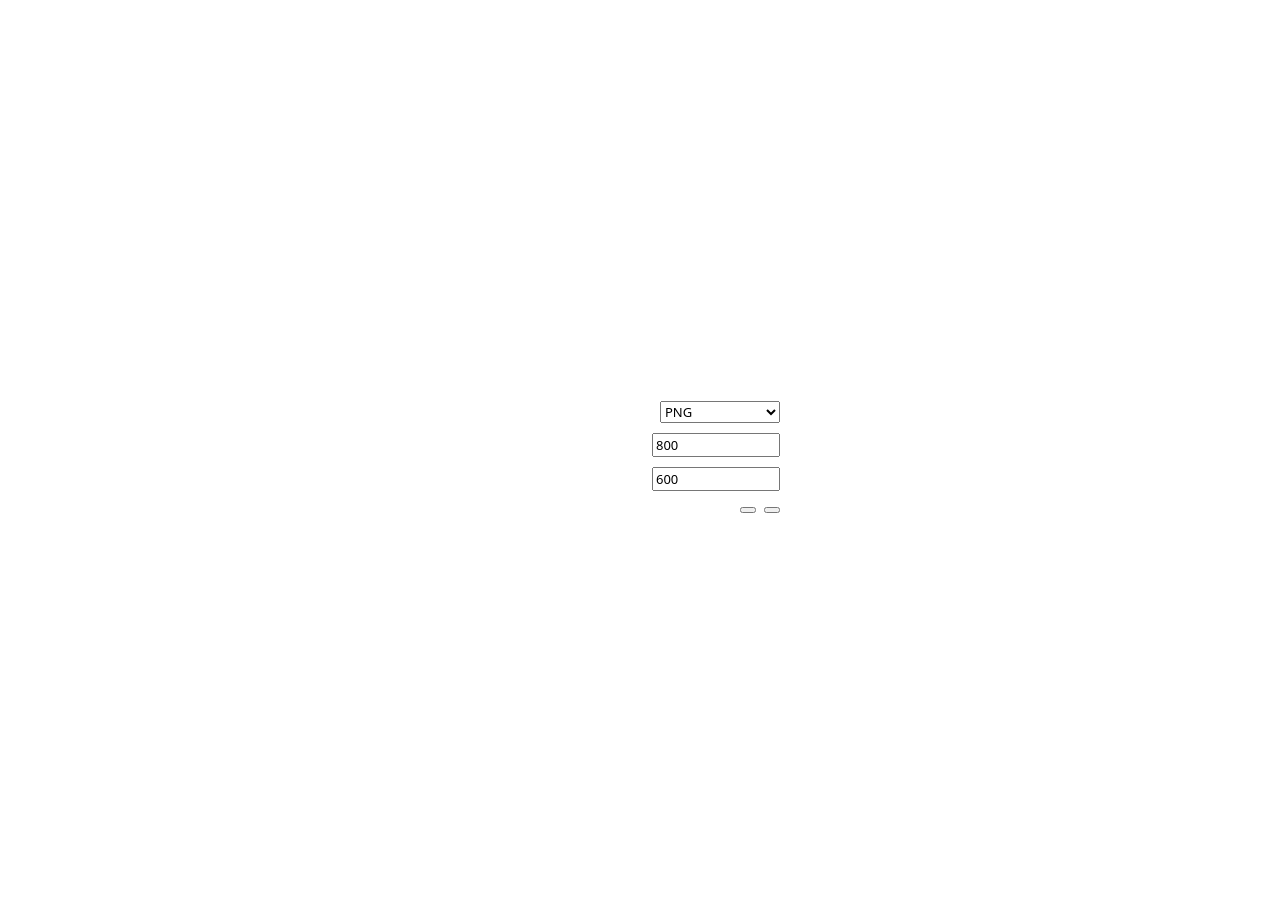
Test: ExportDialog › offers PNG and SVG for an illustration, and no size for SVG
This screenshot has width=1280, height=900.
Later steps or results of the test are not shown.
Select "SVG" in the dropdown named "format". click: (720, 412)
box: [660,401,780,423]
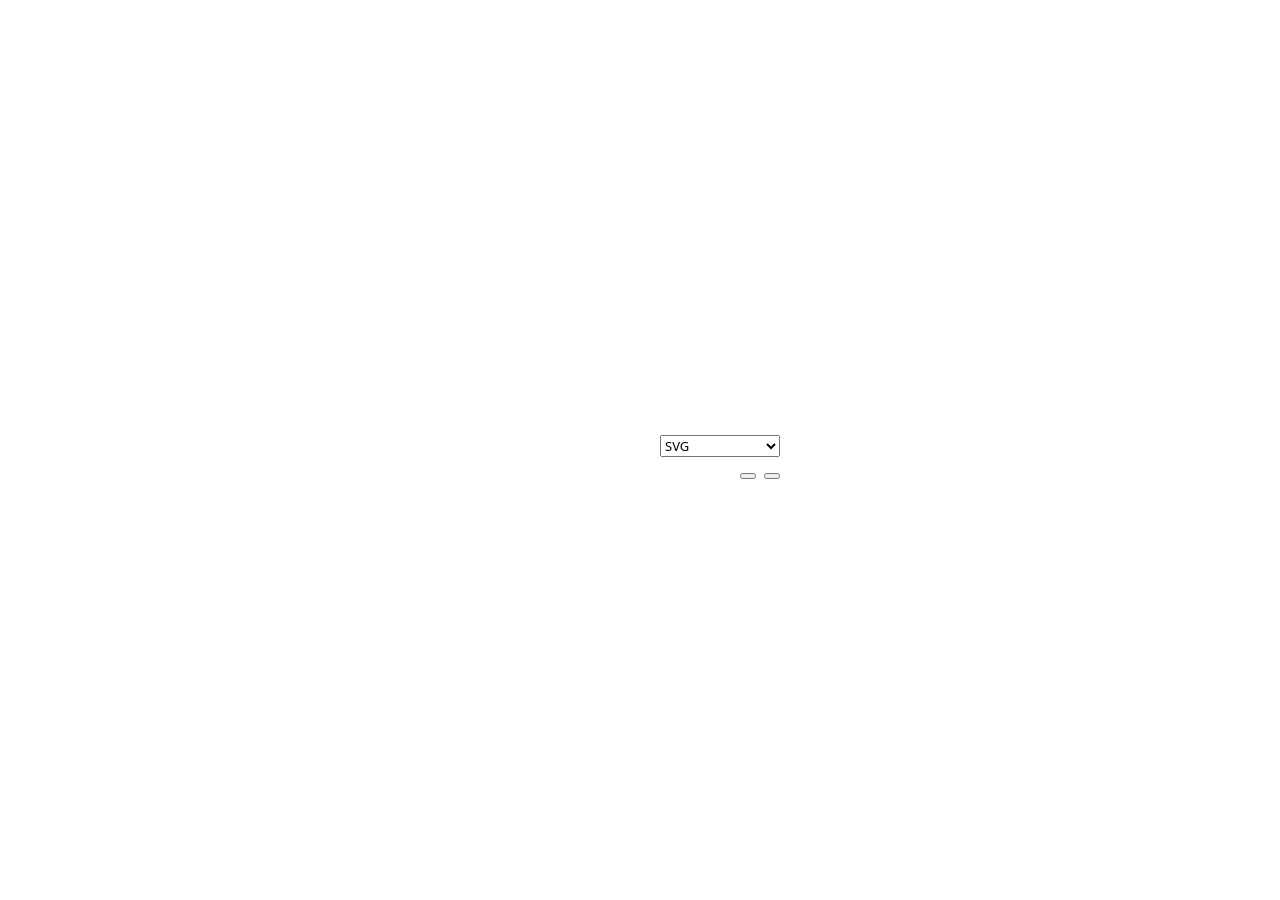
Check: the number field named "width" is gone
